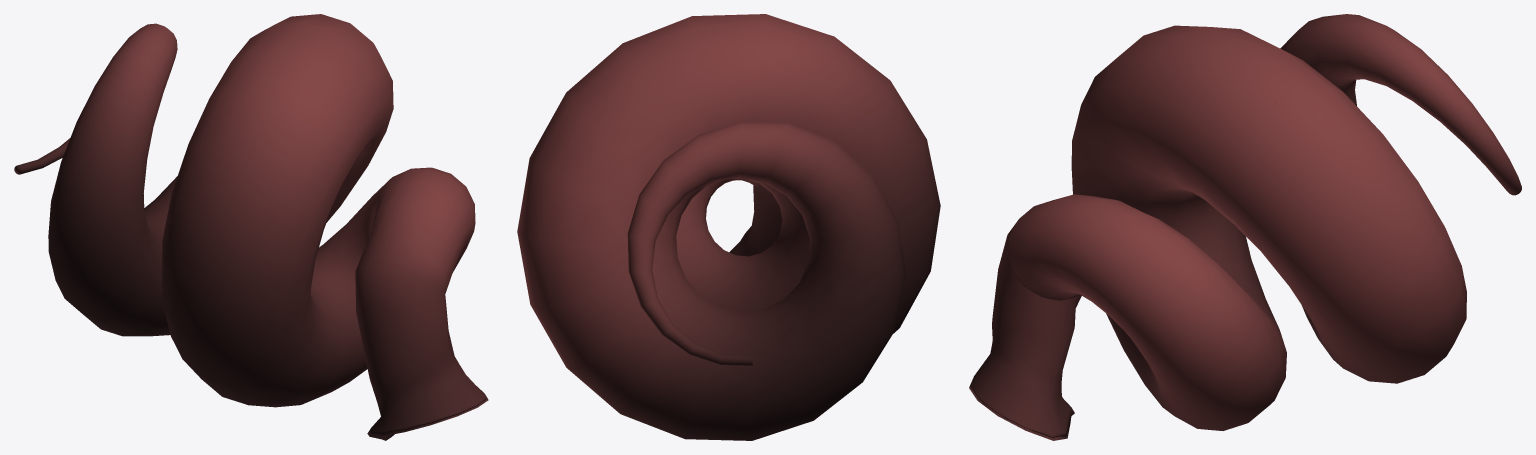
File: spiral.glb
3 renders of one model, left to right at view 1: azimuth 30°, elevation 25°; view 2: azimuth 150°, elevation 25°; view 3: azimuth 270°, elevation 25°, orthographic. The views are drawn at different scales.
Visible parts, largest first — view 1: t_spiral4; view 2: t_spiral4; view 3: t_spiral4.
Boxes of the visible parts, <box> form: t_spiral4: <box>14,14,488,440</box>; t_spiral4: <box>517,14,940,440</box>; t_spiral4: <box>969,14,1521,440</box>.
Bounding box in the file's own units: 0.0787 × 0.0767 × 0.1015.
1 material, 1 textured.
